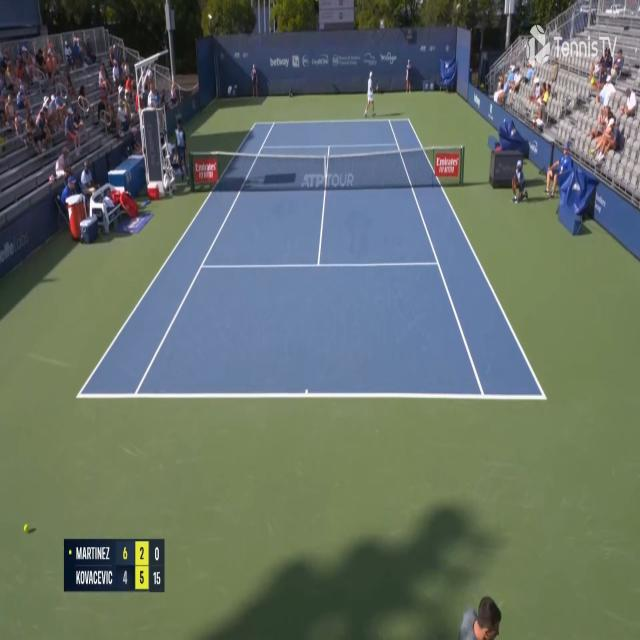tennis-player: (364, 70, 379, 120)
